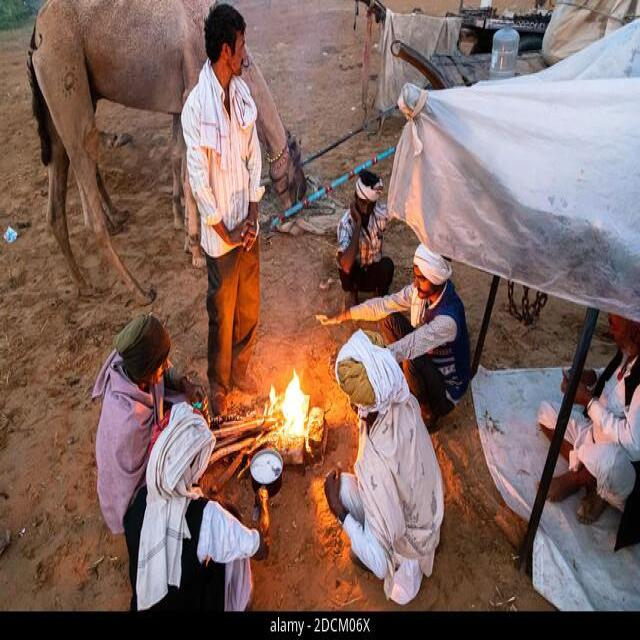fire: (265, 368, 310, 443)
